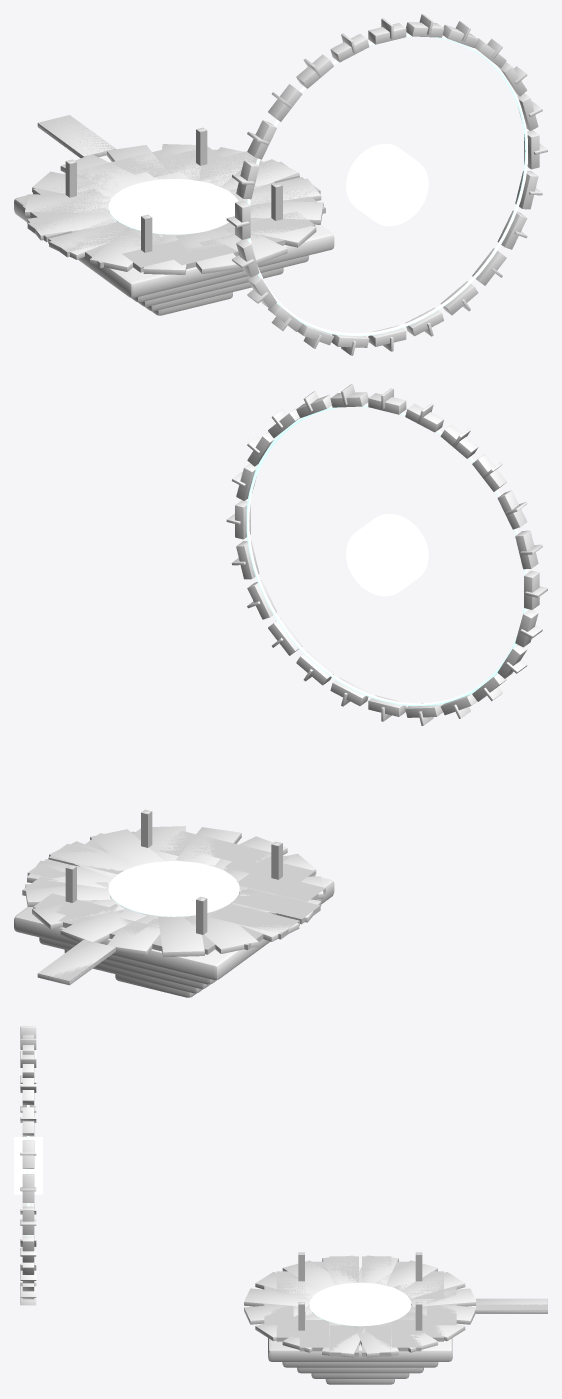
3 views of the same model, one above another, from view 1: azimuth 30°, elevation 25°; view 2: azimuth 150°, elevation 25°; view 3: azimuth 270°, elevation 25° (orthographic). The views are drawn at different scales.
Visible parts, largest first — view 1: ch5_n3_static, ch5_n3_static_a, col_n3_seg1a, col_n3_seg2a, col_n3_seg6a, col_n3_seg8a, col_n3_seg10a, col_n3_seg13a, col_n3_seg4a, col_n3_seg11a, col_n3_walk, col_n3_seg7a (+8 smaller); view 2: ch5_n3_static, ch5_n3_static_a, col_n3_seg8a, col_n3_seg7a, col_n3_seg9a, col_n3_seg12a, col_n3_seg10a, col_n3_seg2a, col_n3_walk; view 3: ch5_n3_static, ch5_n3_static_a, col_n3_seg1a, col_n3_seg14a, col_n3_walk, col_n3_seg8a, col_n3_seg15a, col_n3_seg5a, col_n3_seg0a, col_n3_seg10a, col_n3_seg3a.
Boxes of the visible parts, x1,y1,x2,y2 form: ch5_n3_static: [14, 14, 547, 355]; ch5_n3_static_a: [25, 144, 323, 274]; col_n3_seg1a: [177, 151, 266, 180]; col_n3_seg2a: [137, 146, 222, 177]; col_n3_seg6a: [22, 188, 110, 219]; col_n3_seg8a: [48, 221, 138, 257]; col_n3_seg10a: [122, 240, 195, 272]; col_n3_seg13a: [224, 211, 315, 239]; col_n3_seg4a: [59, 157, 146, 188]; col_n3_seg11a: [173, 242, 253, 269]; col_n3_walk: [38, 115, 115, 158]; col_n3_seg7a: [27, 206, 116, 242]; ch5_n3_static: [14, 384, 547, 997]; ch5_n3_static_a: [25, 826, 323, 956]; col_n3_seg8a: [231, 888, 320, 924]; col_n3_seg7a: [209, 903, 299, 939]; col_n3_seg9a: [238, 873, 325, 901]; col_n3_seg12a: [166, 831, 253, 861]; col_n3_seg10a: [225, 854, 315, 881]; col_n3_seg2a: [33, 893, 123, 919]; col_n3_walk: [37, 939, 115, 985]; ch5_n3_static: [14, 1026, 547, 1384]; ch5_n3_static_a: [244, 1255, 476, 1357]; col_n3_seg1a: [391, 1320, 421, 1351]; col_n3_seg14a: [299, 1320, 328, 1351]; col_n3_walk: [476, 1299, 547, 1313]; col_n3_seg8a: [329, 1256, 358, 1282]; col_n3_seg15a: [329, 1325, 358, 1356]; col_n3_seg5a: [414, 1271, 443, 1298]; col_n3_seg0a: [362, 1325, 391, 1356]; col_n3_seg10a: [276, 1271, 305, 1298]; col_n3_seg3a: [427, 1298, 456, 1325].
Bounding box in the file's own units: 38.8 × 50.8 × 74.
